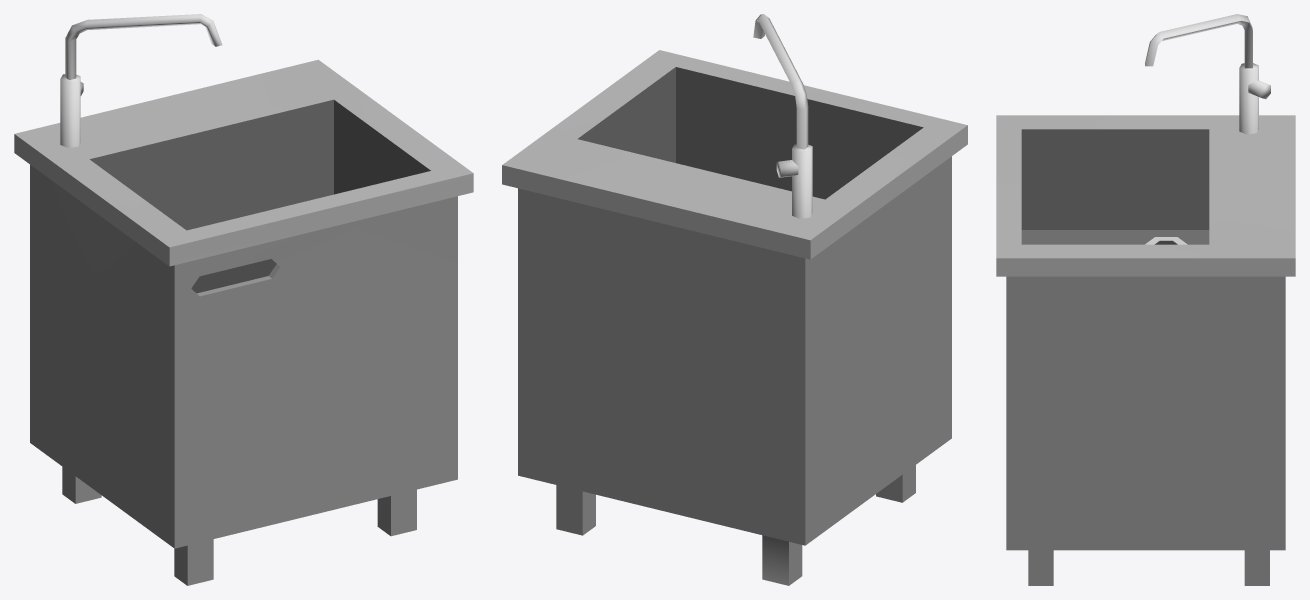
The model's file is kitchen_sink.glb.
3 renders of one model, left to right at view 1: azimuth 30°, elevation 25°; view 2: azimuth 150°, elevation 25°; view 3: azimuth 270°, elevation 25°, orthographic. The views are drawn at different scales.
Parts seen in each view (by area): view 1: kitchen_sink_001; view 2: kitchen_sink_001; view 3: kitchen_sink_001.
Part boxes in pixels (x1,y1,x2,y2): kitchen_sink_001: (14,14,473,585); kitchen_sink_001: (502,14,967,585); kitchen_sink_001: (996,14,1295,585).
Size of the model in its own units: 1.08 by 1.71 by 0.9566.
Materials: 1 (1 with a texture image).
